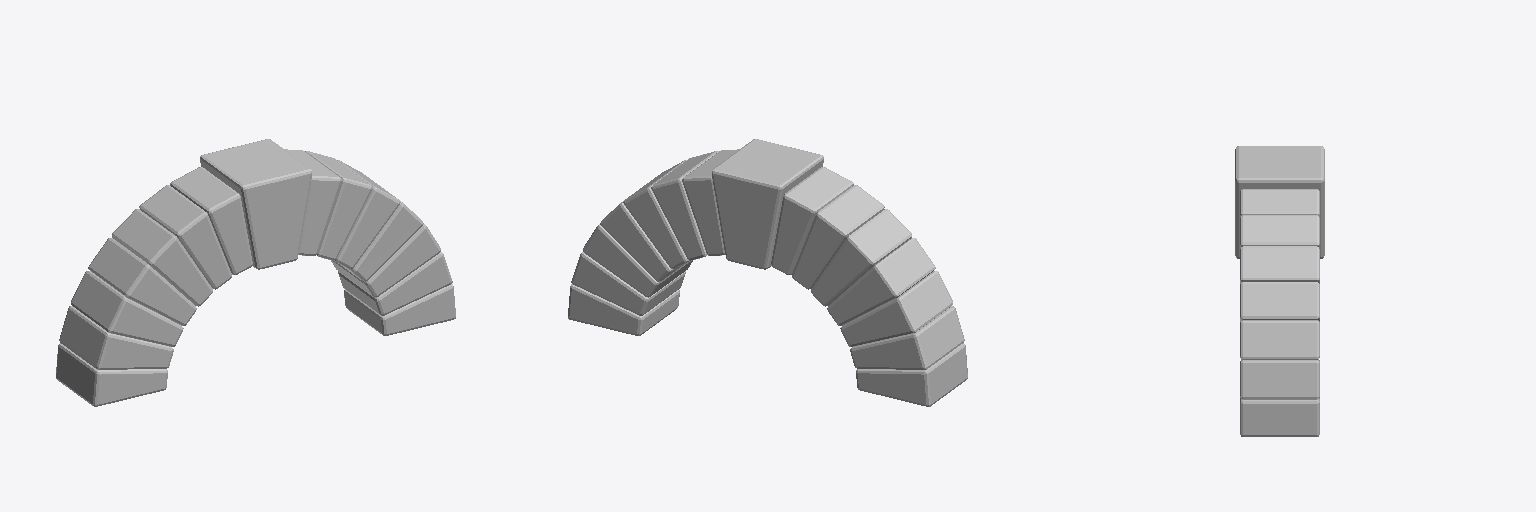
Rendered from archway.obj.
3 renders of one model, left to right at view 1: azimuth 30°, elevation 25°; view 2: azimuth 150°, elevation 25°; view 3: azimuth 270°, elevation 25°, orthographic.
Visible parts, largest first — view 1: stone_archway_03; view 2: stone_archway_03; view 3: stone_archway_03.
Part boxes in pixels (left/top/right/bottom): stone_archway_03: left=56, top=139, right=455, bottom=406; stone_archway_03: left=568, top=139, right=967, bottom=406; stone_archway_03: left=1235, top=146, right=1324, bottom=436.
Size of the model in its own units: 1.51 by 0.7475 by 0.3221.